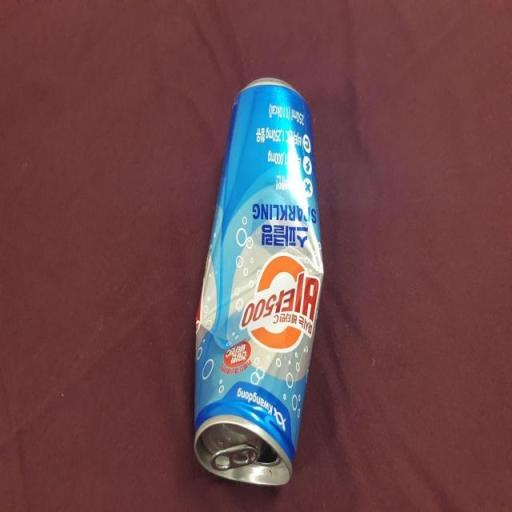metal: (185, 57, 321, 501)
